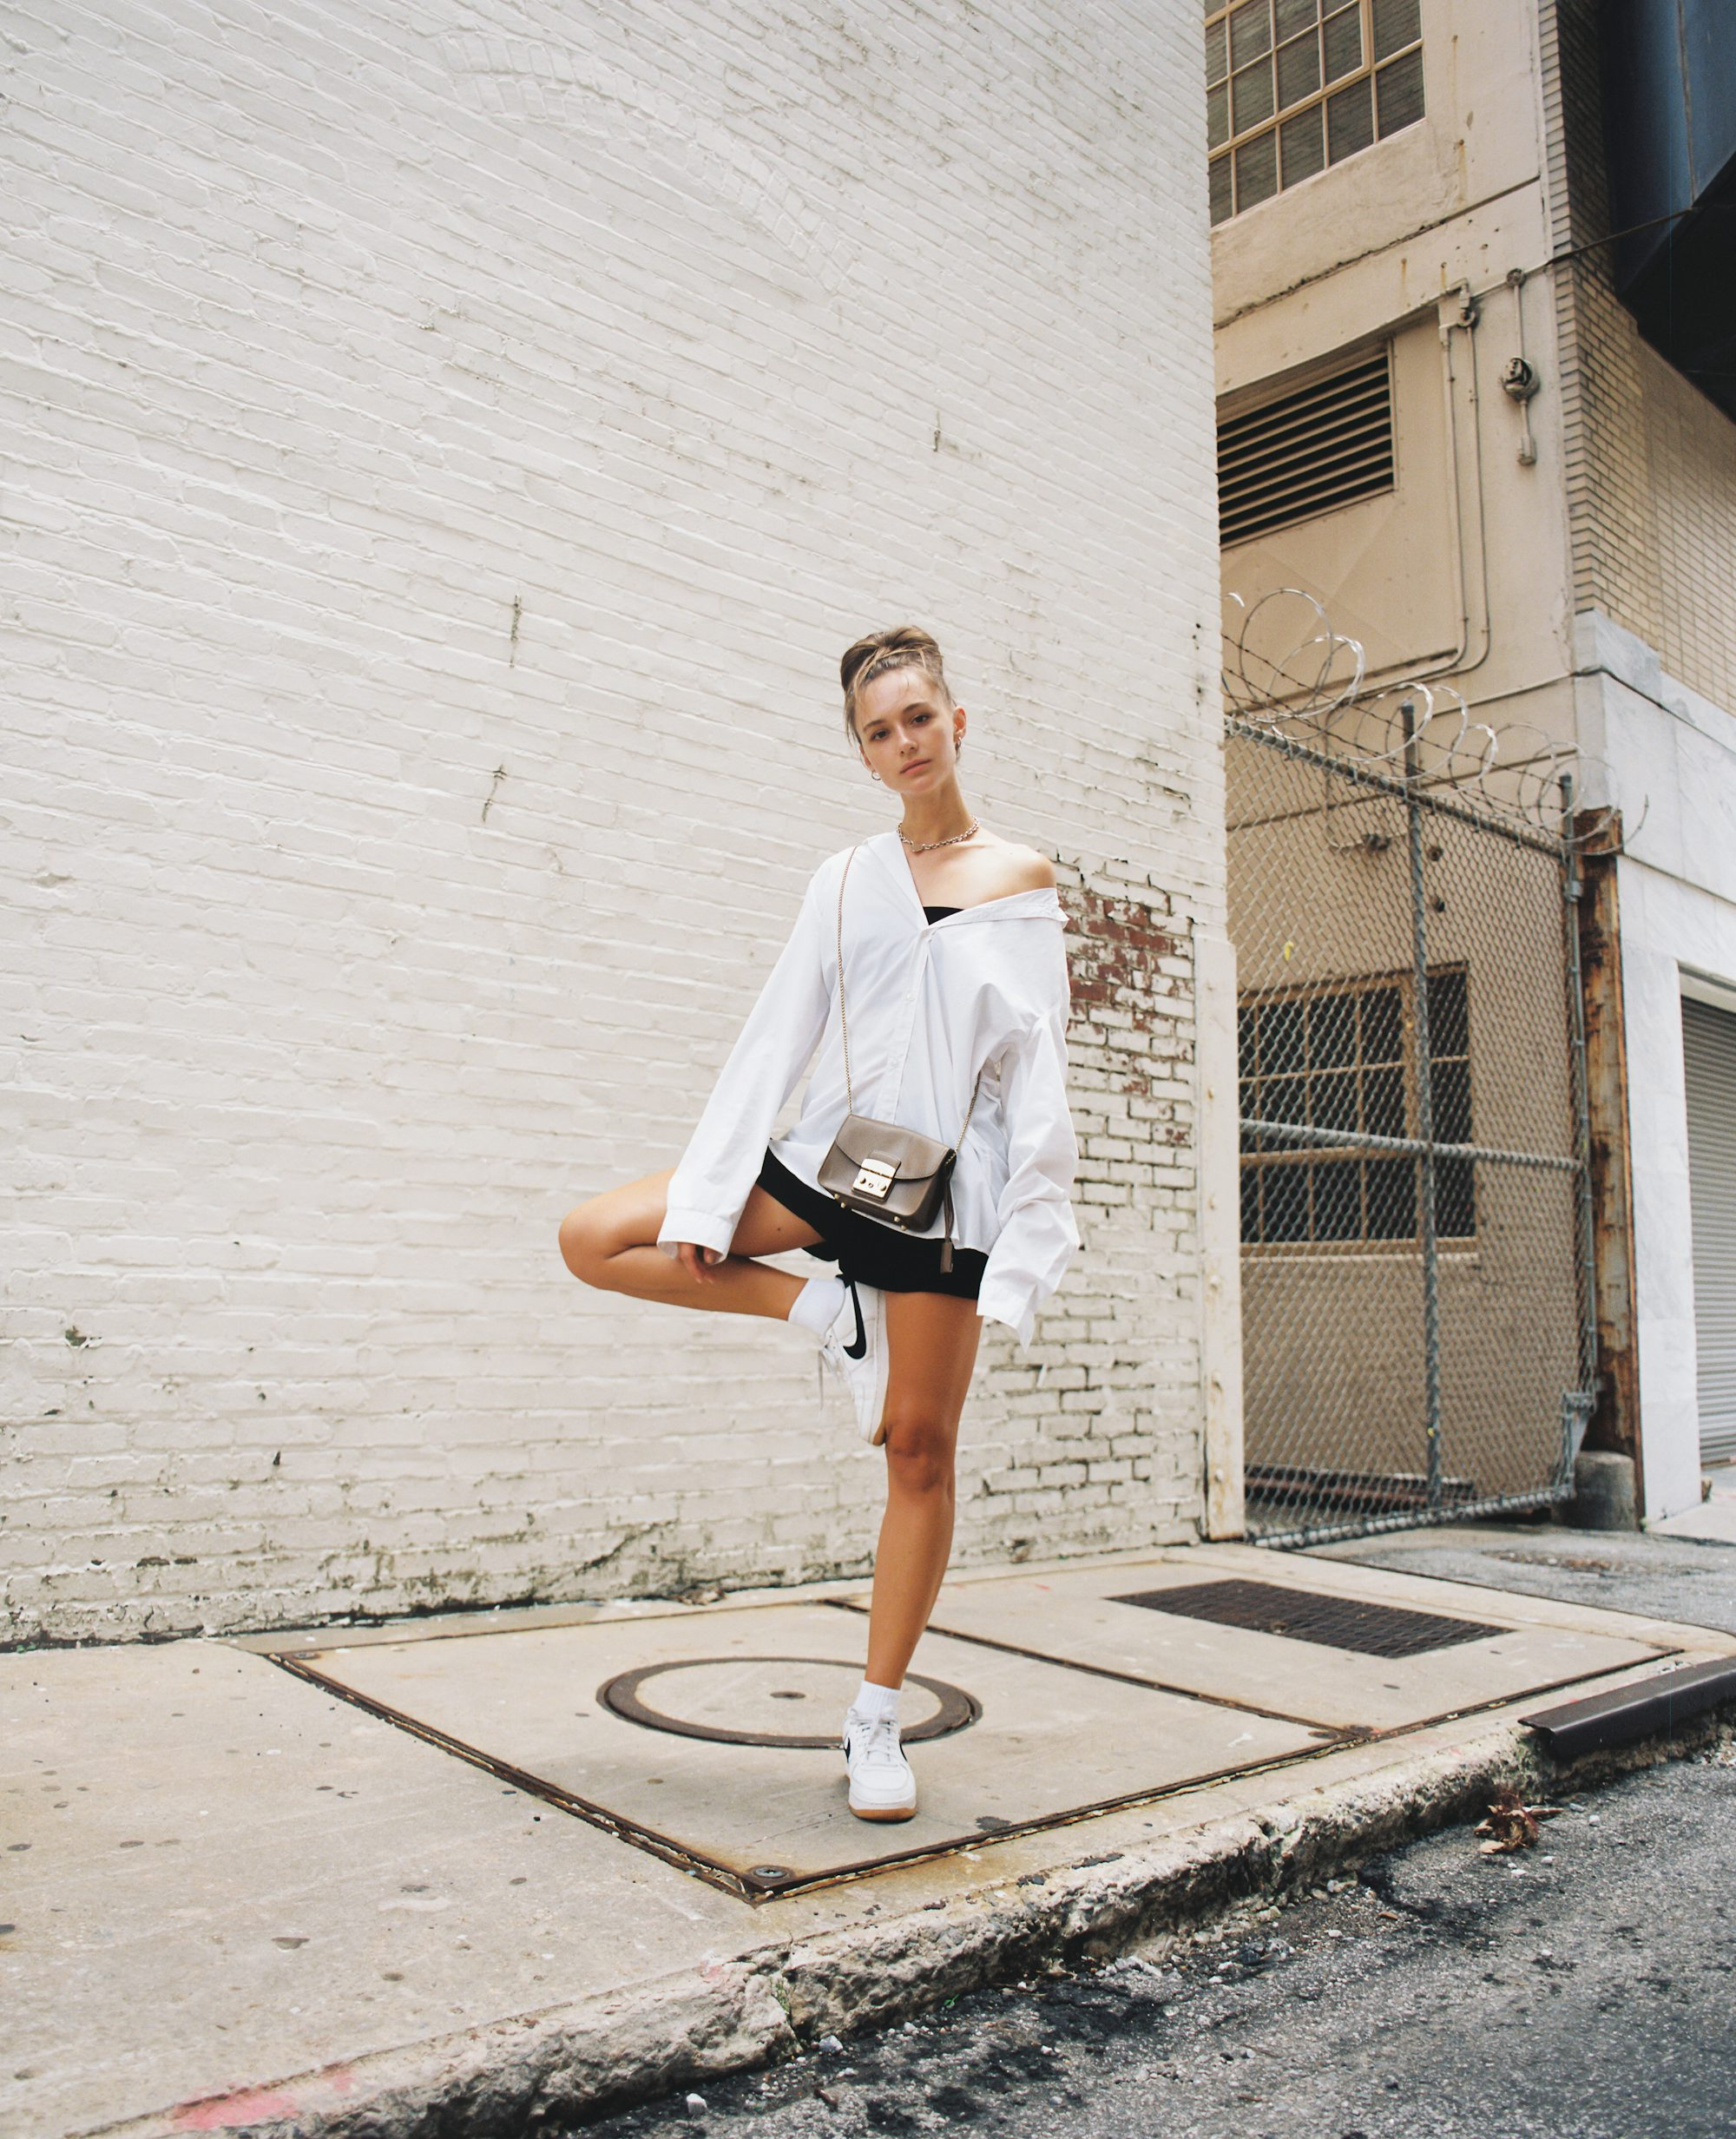door: (1643, 918, 1736, 1514)
person: (589, 587, 1089, 1882)
